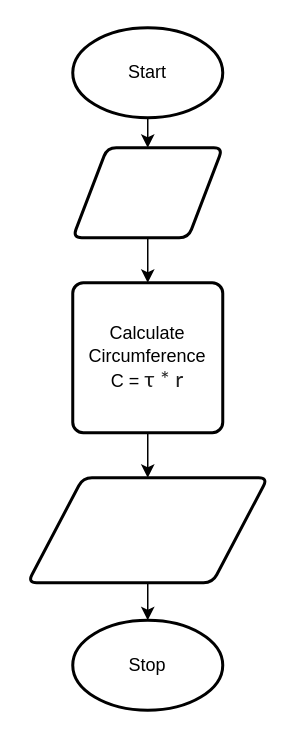
The diagram is 294 pixels wide and 737 high, and some of its shapes have lost their labels. The centre of each missing label's shape, as x and y in pixels:
"Get Radius" goes at pixel 147 192.
"Show Circumference" goes at pixel 147 530.
